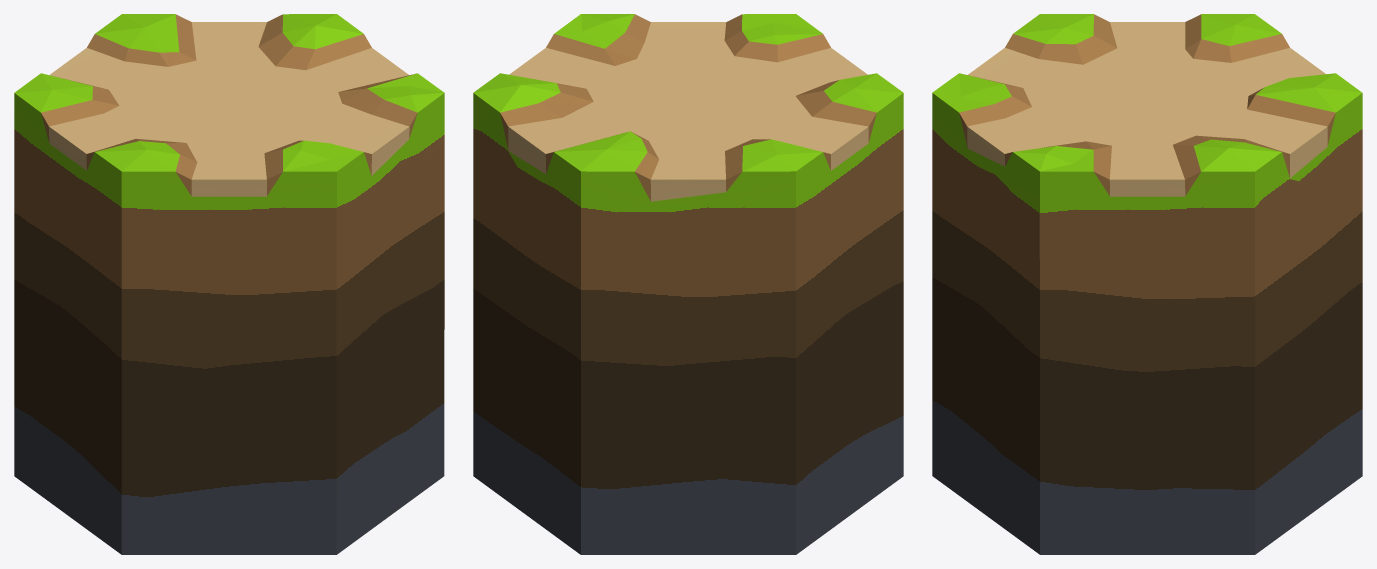
Rendered from HexTilePath_6Way_1.glb.
3 views of the same model, side by side, from view 1: azimuth 30°, elevation 25°; view 2: azimuth 150°, elevation 25°; view 3: azimuth 270°, elevation 25° (orthographic).
Parts seen in each view (by area): view 1: HexTilePath_6Way_1; view 2: HexTilePath_6Way_1; view 3: HexTilePath_6Way_1.
Part boxes in pixels (<box>): HexTilePath_6Way_1: <box>14,14,444,554</box>; HexTilePath_6Way_1: <box>473,14,903,554</box>; HexTilePath_6Way_1: <box>932,14,1362,554</box>.
Size of the model in its own units: 1.73 by 2 by 2.
Materials: 1 (1 with a texture image).
